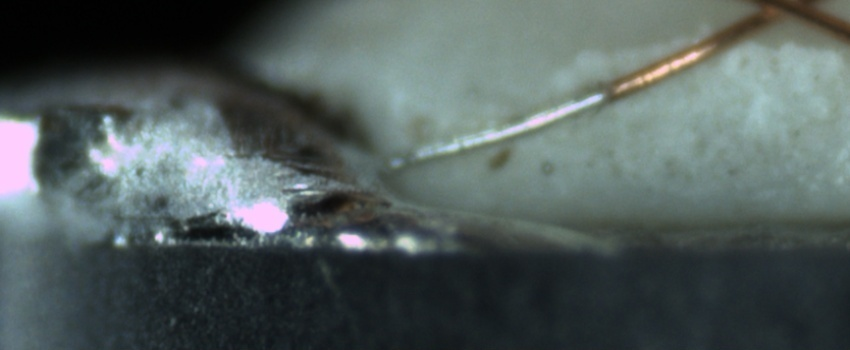CL: (747, 1, 835, 30)
TS: (379, 86, 610, 173)
